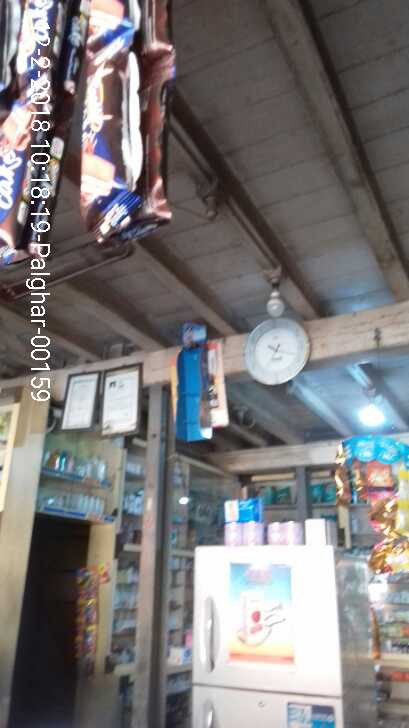reject: (117, 253, 244, 543)
